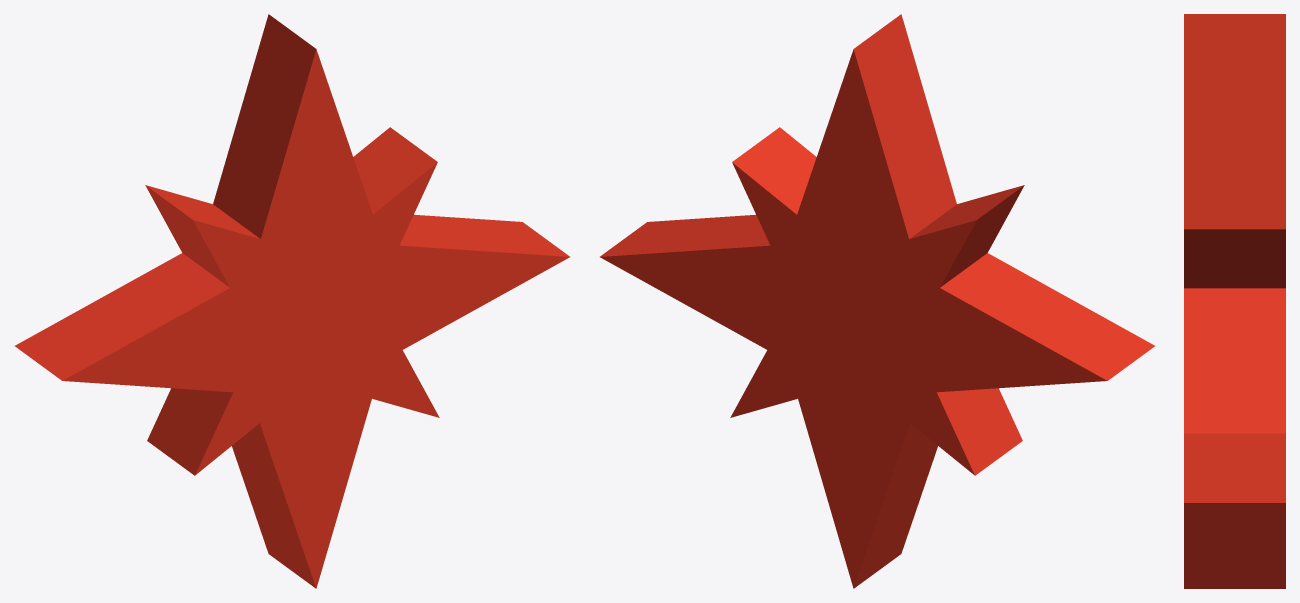
The model's file is Icon_Star_03.fbx.
3 views of the same model, side by side, from view 1: azimuth 30°, elevation 25°; view 2: azimuth 150°, elevation 25°; view 3: azimuth 270°, elevation 25° (orthographic). The views are drawn at different scales.
Visible parts, largest first — view 1: Icon_Star_03; view 2: Icon_Star_03; view 3: Icon_Star_03.
Part boxes in pixels (bbox=[...]): Icon_Star_03: bbox=[15, 14, 569, 588]; Icon_Star_03: bbox=[600, 14, 1154, 588]; Icon_Star_03: bbox=[1184, 14, 1285, 588].
Size of the model in its own units: 74.02 by 75.15 by 12.06.
